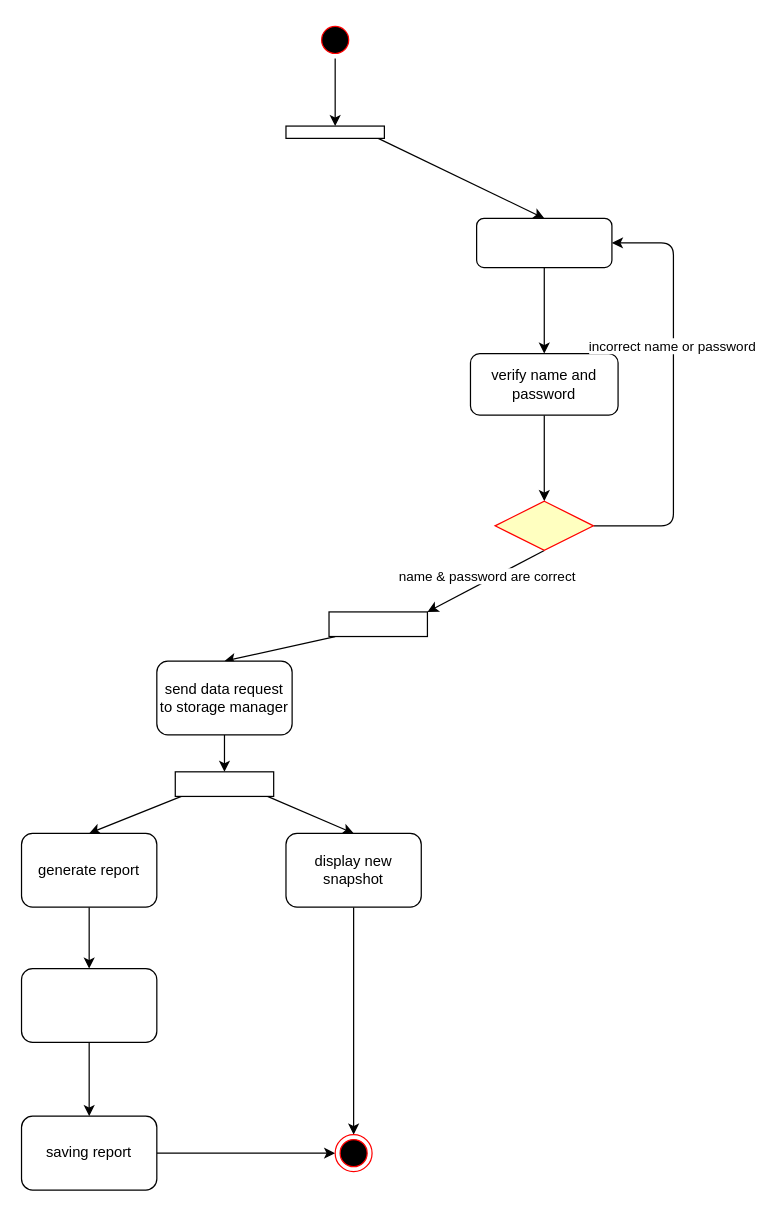
The diagram is 776 pixels wide and 1212 high, and some of its shapes have lost their labels. Each missing label, with the box of its shape:
display report: (20, 967, 157, 1042)
input name and password: (475, 217, 612, 268)
is correct?: (494, 500, 593, 550)
